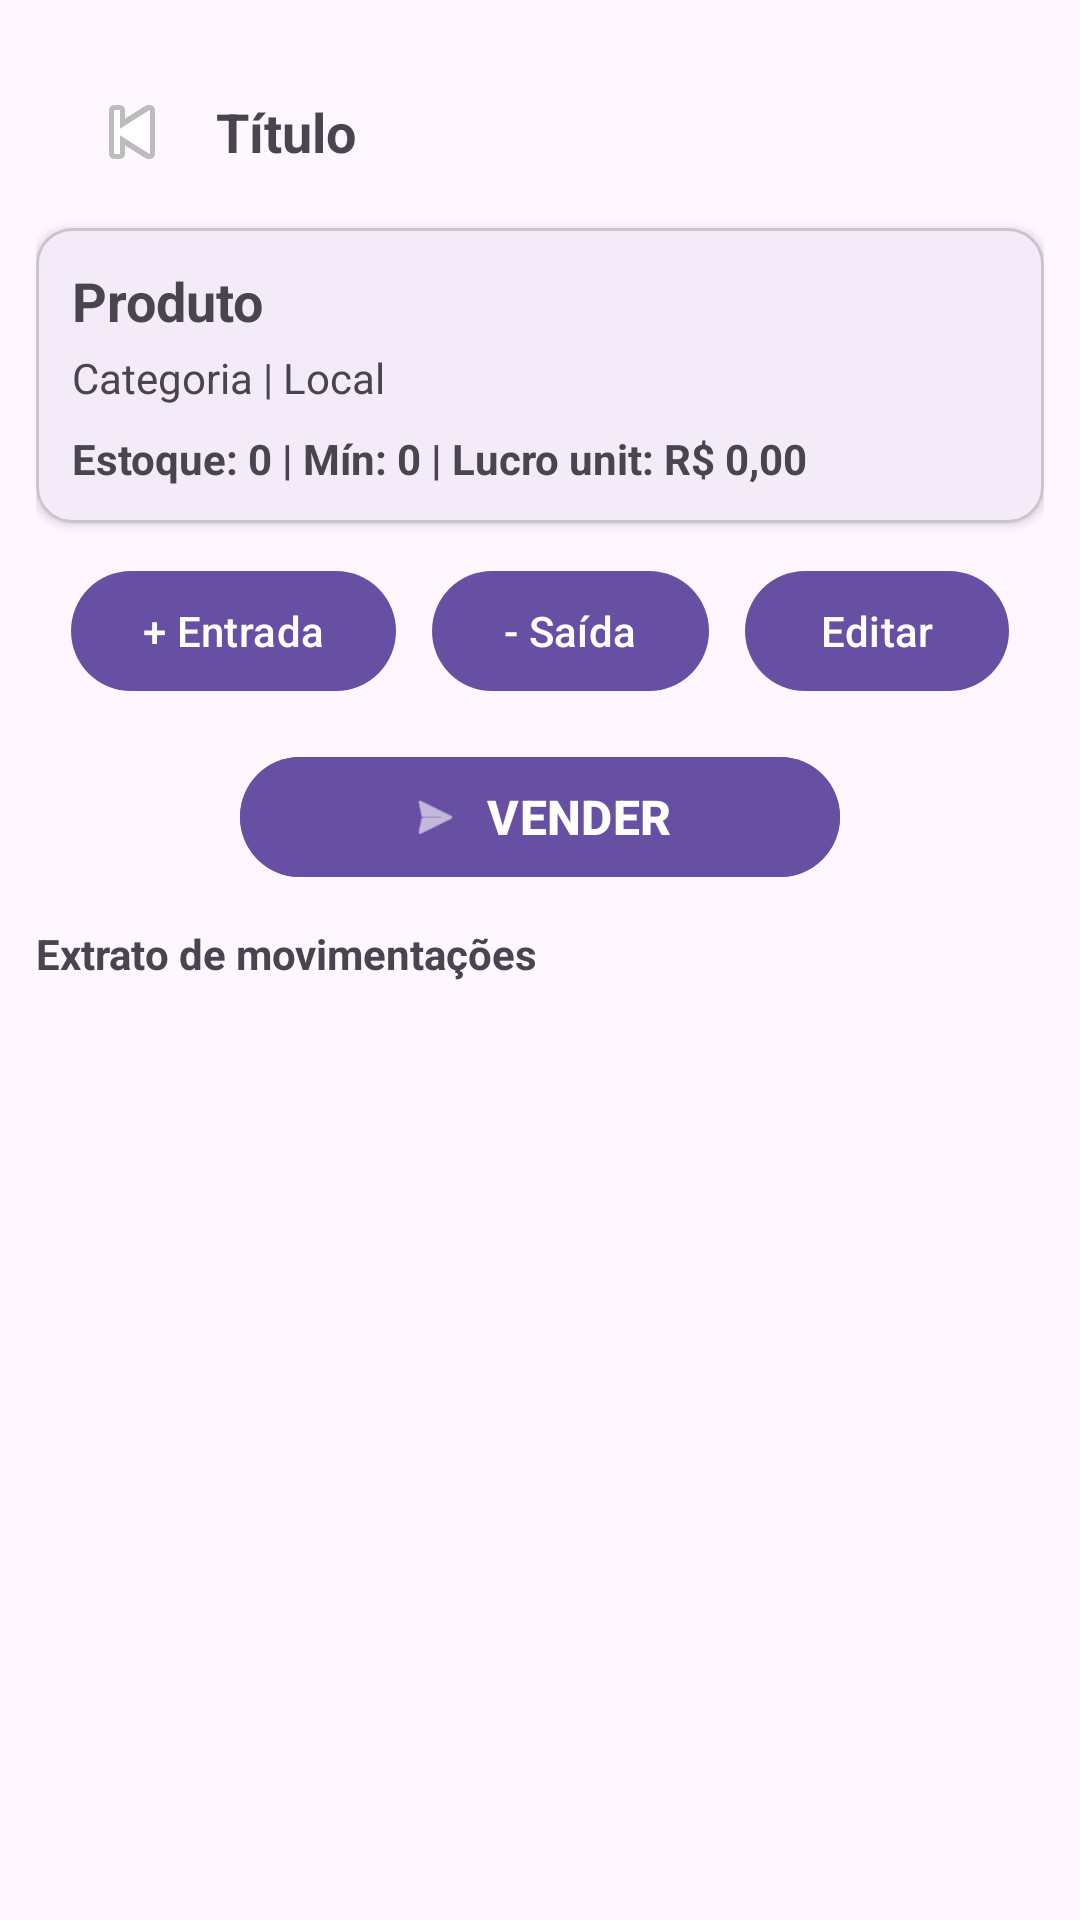

Where icons sit on this 1080 x 1920 app screen, as (x1,y1,x2,y2):
Voltar: (109,105,155,159)
